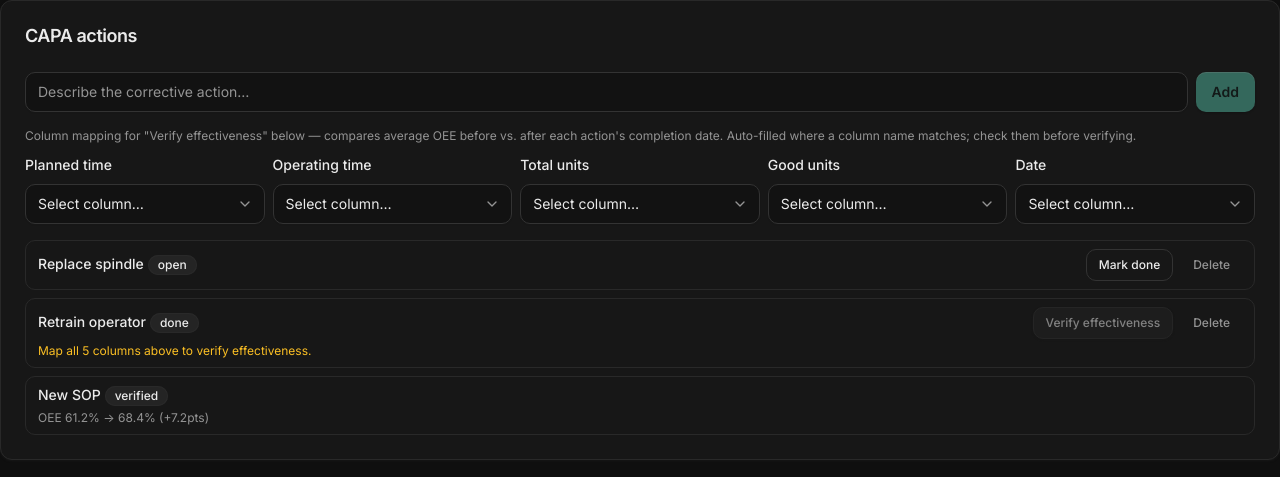
Test: Actions › disables verify until all five columns are mapped, and enables it once mapped by hand
The image size is (1280, 477).
Expected: the button "Verify effectiveness" is disabled, [1032,306,1173,338]
Expected: the text "Map all 5 columns above to verify effectiveness." is shown, [38,342,312,358]
Select "plan_m" in the dropdown below "Planned time": (145, 204) [25,184,265,224]
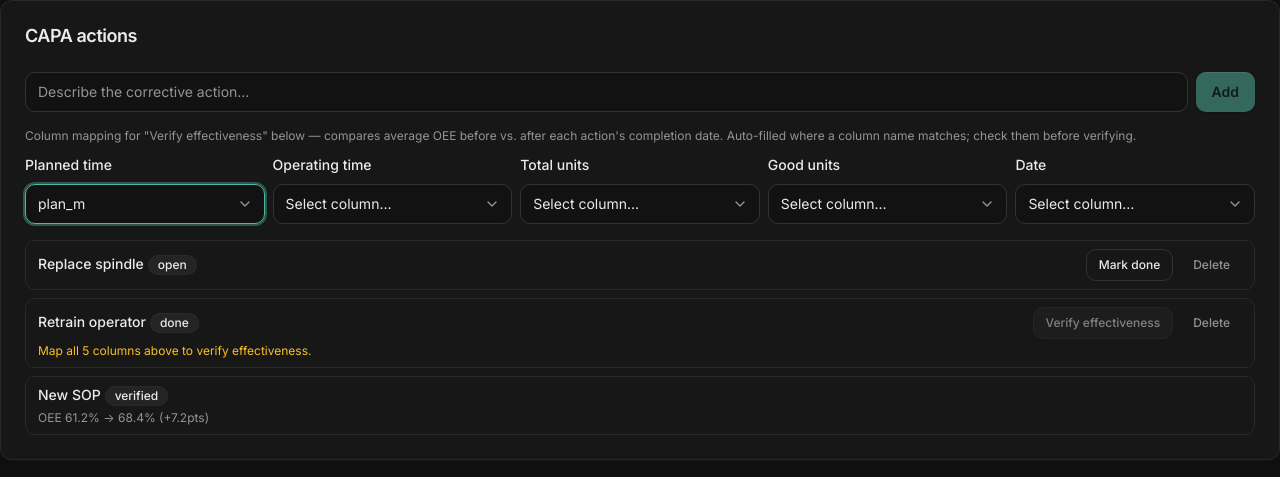
Select "op_m" in the dropdown below "Operating time": (392, 204) [273,184,512,224]
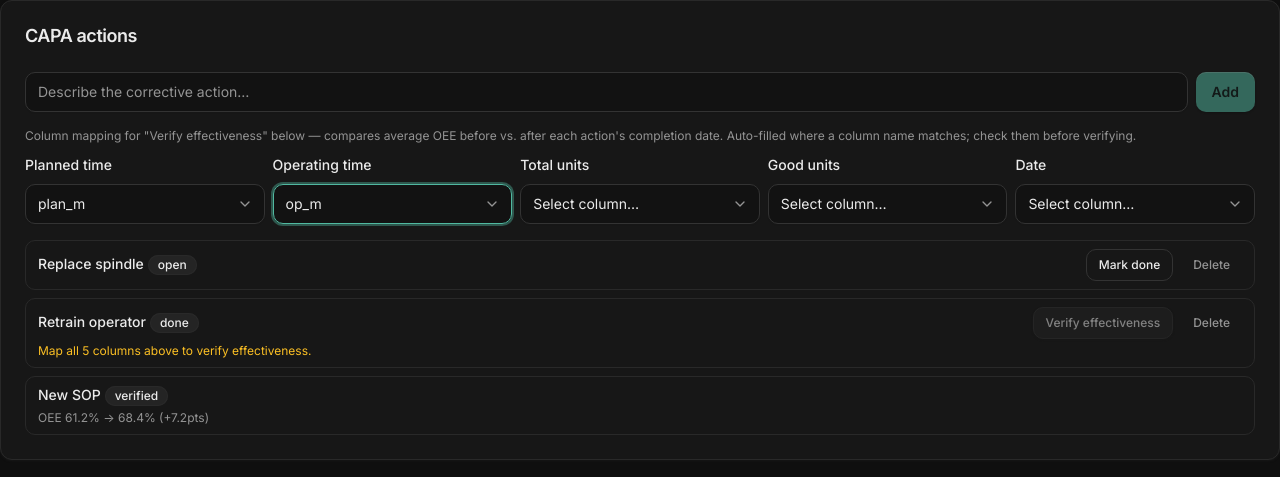
Select "made" in the dropdown below "Total units": (640, 204) [520,184,760,224]
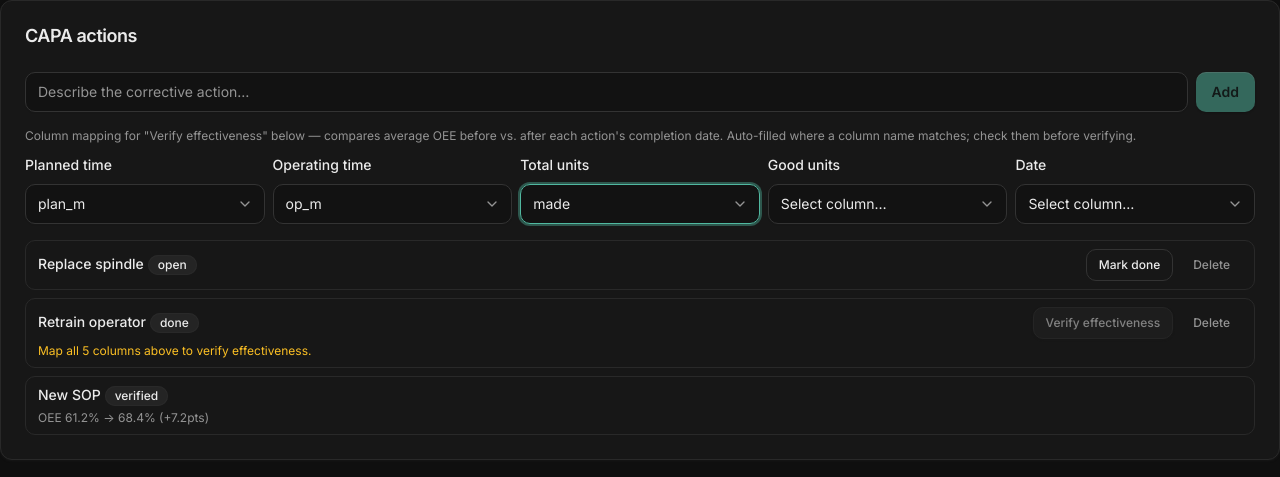
Select "ok_qty" in the dropdown below "Good units": (888, 204) [768,184,1007,224]
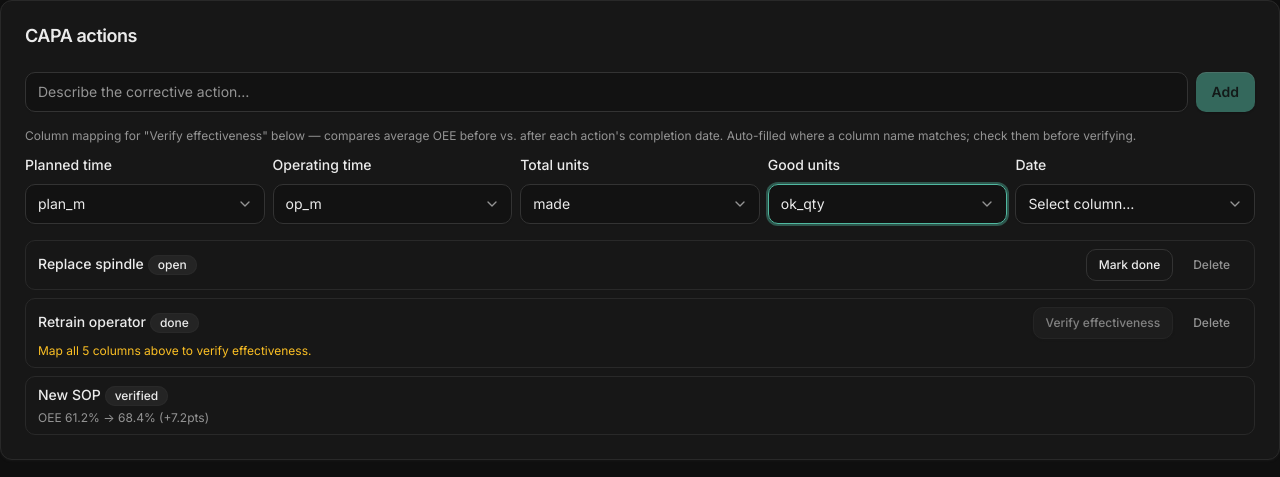
Select "day" in the 5th dropdown: (1135, 204) [1015,184,1255,224]
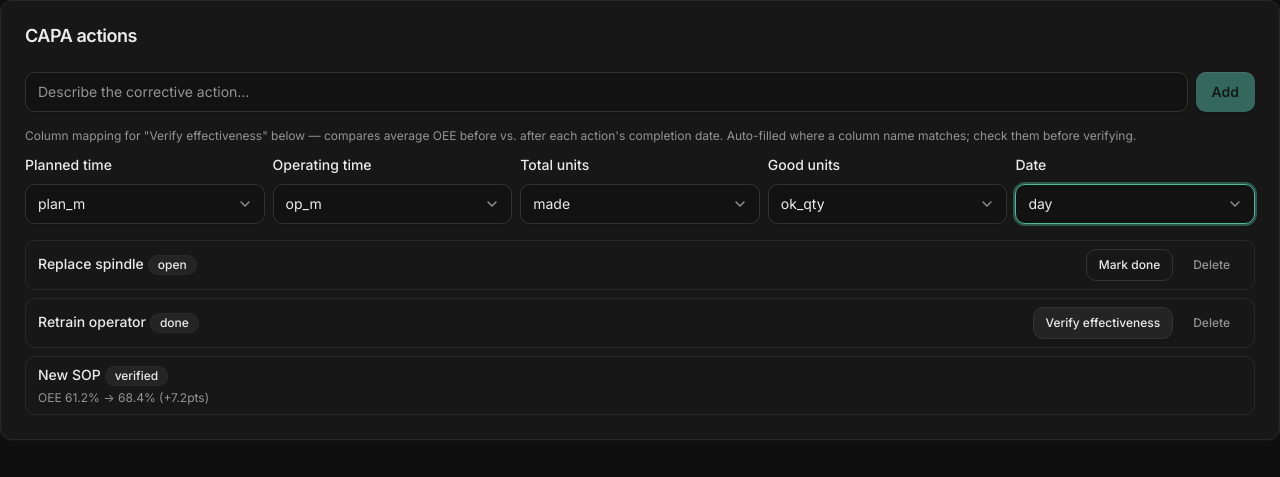
Now the button "Verify effectiveness" is enabled, box [1032,306,1173,338]
